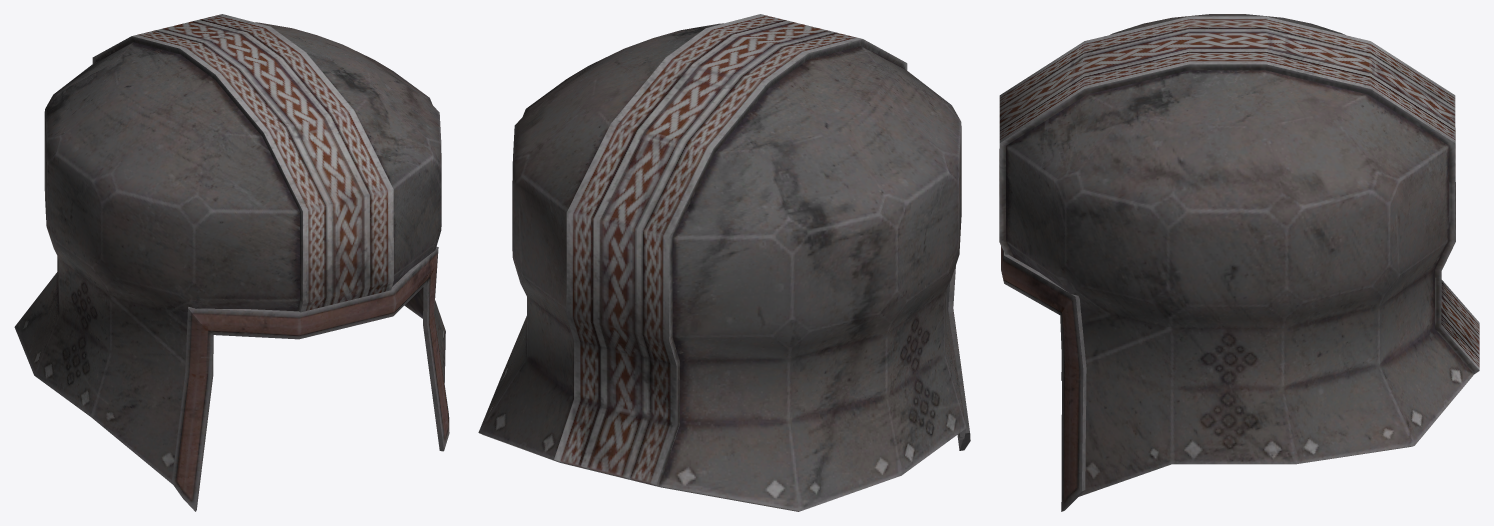
File: sk_dwarf_iron_helmet_light_d2.fbx
3 views of the same model, side by side, from view 1: azimuth 30°, elevation 25°; view 2: azimuth 150°, elevation 25°; view 3: azimuth 270°, elevation 25° (orthographic). The views are drawn at different scales.
Parts seen in each view (by area): view 1: sk_dwarf_iron_helmet_light_d2; view 2: sk_dwarf_iron_helmet_light_d2; view 3: sk_dwarf_iron_helmet_light_d2.
Boxes of the visible parts, x1,y1,x2,y2 form: sk_dwarf_iron_helmet_light_d2: (14,14,449,511); sk_dwarf_iron_helmet_light_d2: (478,14,970,511); sk_dwarf_iron_helmet_light_d2: (999,14,1479,511).
Size of the model in its own units: 0.2728 by 0.2959 by 0.276.
